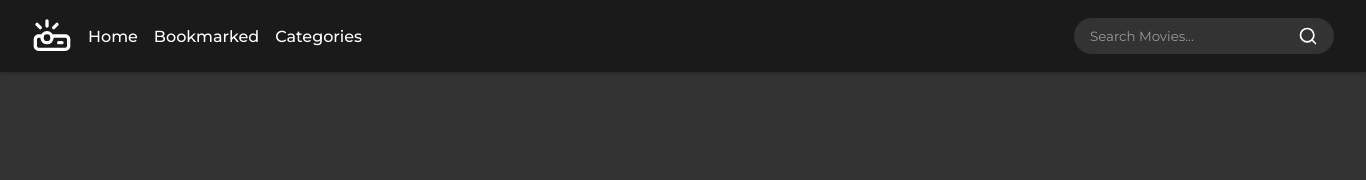
Test: Navbar Component - Desktop View › finds matches with typos
Type "Shawshenk" into the search field labelled "Search Movies..." at (1190, 36), box [1090,28,1290,44]
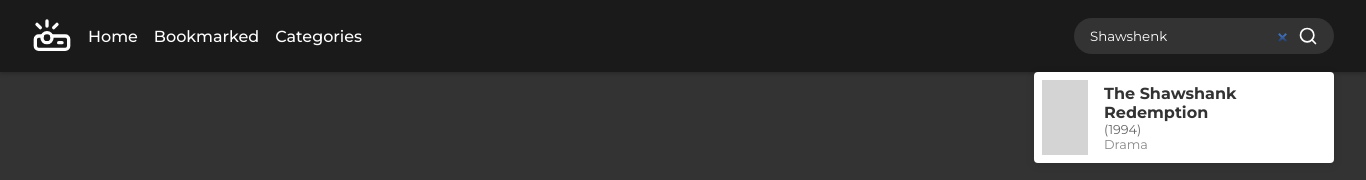
Now the text "The Shawshank Redemption" is shown, box [1104,84,1236,122]
